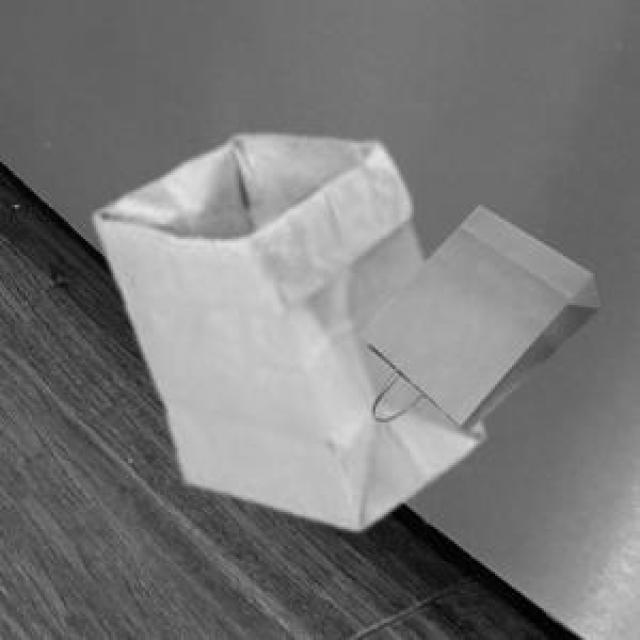paper: (90, 132, 480, 525), (356, 203, 595, 429)
